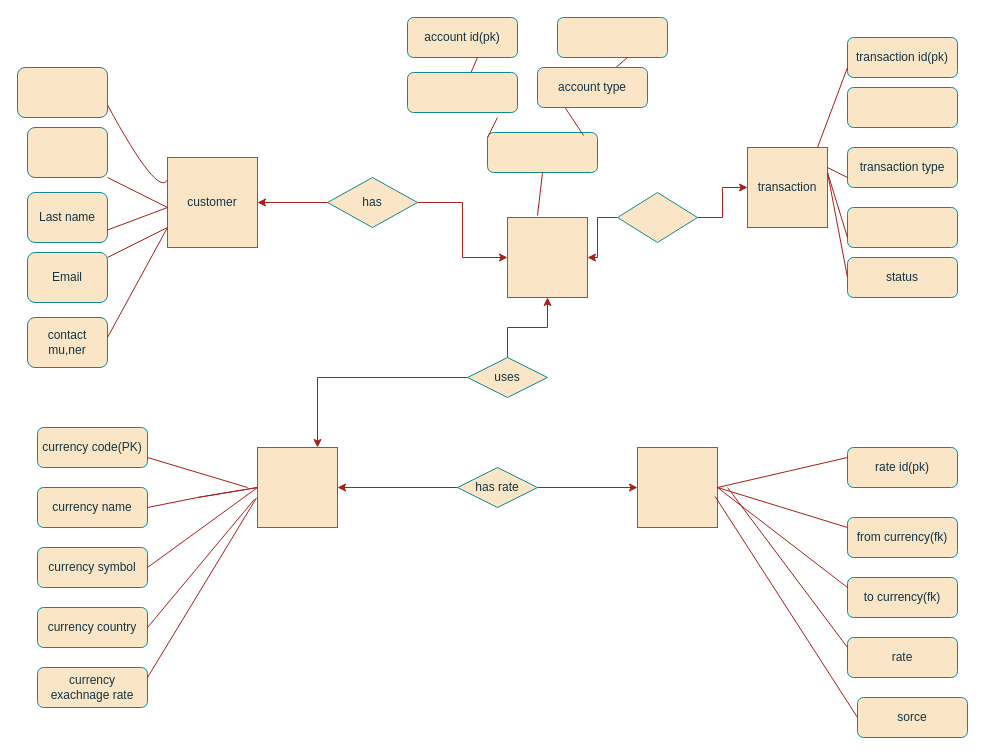
The diagram is 985 pixels wide and 755 high, and some of its shapes have lost their labels. Each missing label, with the box of its shape:
account: (506, 216, 588, 298)
account id(fk): (846, 86, 958, 128)
account number: (406, 72, 518, 112)
amount: (846, 206, 958, 248)
balance: (486, 132, 598, 172)
currency: (256, 446, 338, 528)
customer id(fk): (556, 16, 668, 58)
customer_id(pk): (16, 66, 108, 118)
exchmage rate: (636, 446, 718, 528)
First name: (26, 126, 108, 178)
used in: (616, 192, 698, 242)
